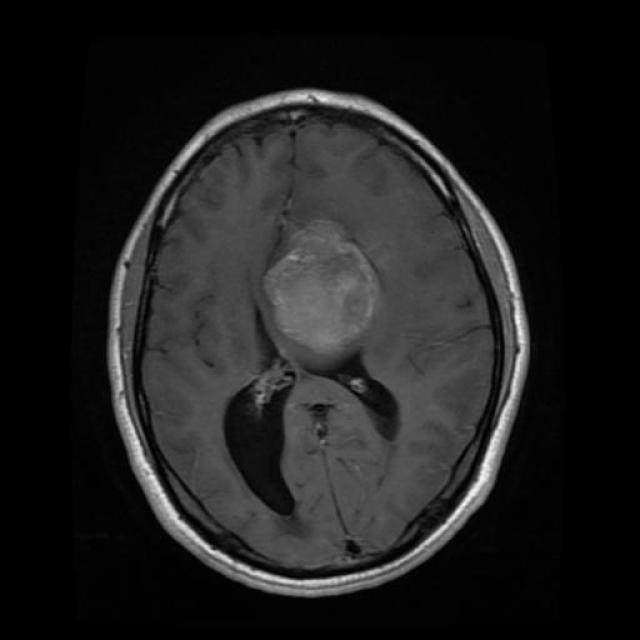meningioma: (262, 221, 379, 359)
